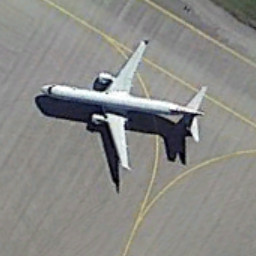Airplane: (29, 26, 214, 194)
